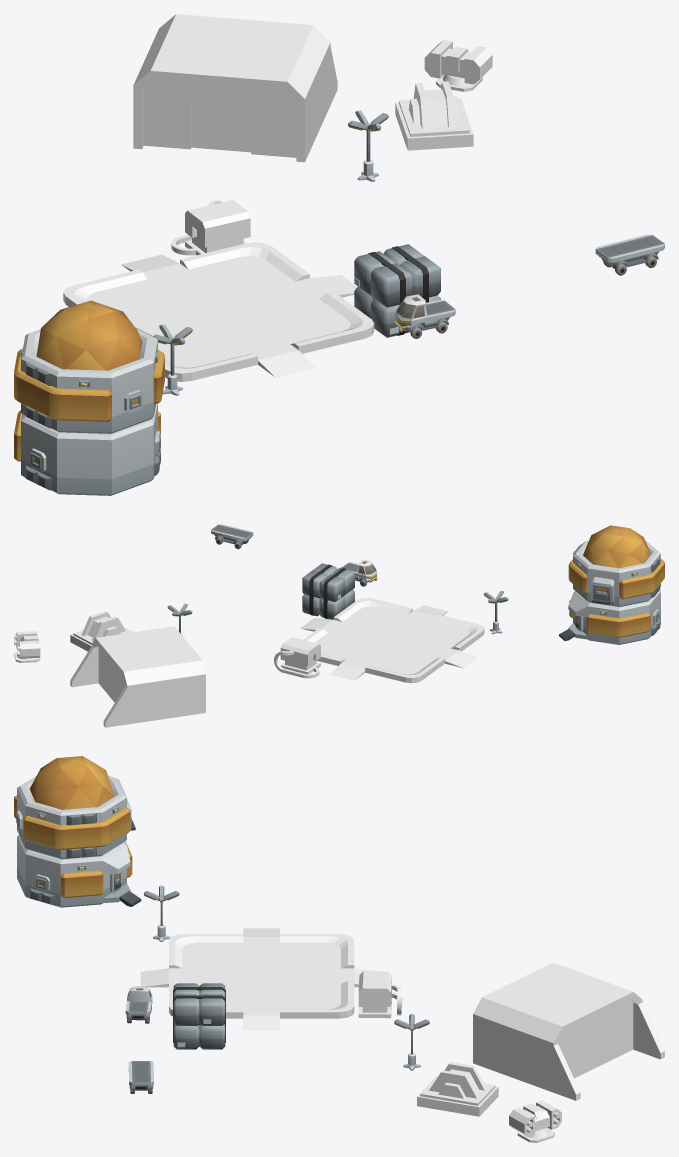
The model's file is Dock_4.glb.
The picture shows the model from 3 angles, top to bottom: view 1: azimuth 30°, elevation 25°; view 2: azimuth 150°, elevation 25°; view 3: azimuth 270°, elevation 25°; orthographic projection. The views are drawn at different scales.
Parts seen in each view (by area): view 1: Plane, basemodule_E.001, hangar_smallB, gate.006, basemodule_A.001, cargo_B_stacked.001, machine_generatorLarge, machine_generator, turret, spacetruck.001, spacetruck_trailer.001, lights.003 (+1 smaller); view 2: Plane, hangar_smallB, basemodule_E.001, basemodule_A.001, cargo_B_stacked.001, machine_generator, machine_generatorLarge, gate.007, spacetruck_trailer.001, turret, spacetruck.001, cable (+1 smaller); view 3: Plane, hangar_smallB, basemodule_E.001, basemodule_A.001, gate.007, cargo_B_stacked.001, machine_generatorLarge, machine_generator, turret, spacetruck.001, spacetruck_trailer.001.
Boxes of the visible parts, x1,y1,x2,y2 form: Plane: (63, 242, 374, 381); basemodule_E.001: (14, 300, 164, 433); hangar_smallB: (133, 14, 337, 162); gate.006: (143, 79, 296, 157); basemodule_A.001: (14, 403, 160, 495); cargo_B_stacked.001: (354, 244, 440, 337); machine_generatorLarge: (395, 81, 473, 150); machine_generator: (185, 200, 250, 255); turret: (424, 40, 492, 84); spacetruck.001: (394, 294, 455, 338); spacetruck_trailer.001: (595, 234, 664, 275); lights.003: (348, 110, 388, 181); Plane: (300, 598, 484, 683); hangar_smallB: (70, 626, 205, 727); basemodule_E.001: (568, 525, 664, 606); basemodule_A.001: (559, 590, 660, 644); cargo_B_stacked.001: (302, 563, 354, 619); machine_generator: (280, 637, 320, 674); machine_generatorLarge: (70, 611, 132, 651); gate.007: (98, 647, 125, 702); spacetruck_trailer.001: (211, 524, 253, 549); turret: (14, 631, 40, 658); spacetruck.001: (341, 559, 377, 586); cable: (273, 650, 319, 678); Plane: (140, 928, 377, 1030); hangar_smallB: (473, 962, 664, 1100); basemodule_E.001: (14, 756, 135, 859); basemodule_A.001: (17, 835, 141, 907); gate.007: (558, 1000, 633, 1078); cargo_B_stacked.001: (173, 983, 225, 1049); machine_generatorLarge: (417, 1062, 498, 1116); machine_generator: (358, 971, 391, 1018); turret: (509, 1100, 561, 1136); spacetruck.001: (125, 986, 152, 1023); spacetruck_trailer.001: (128, 1061, 153, 1093).
Size of the model in its own units: 13.2 by 2.81 by 12.55.
7 materials, 6 textured.
